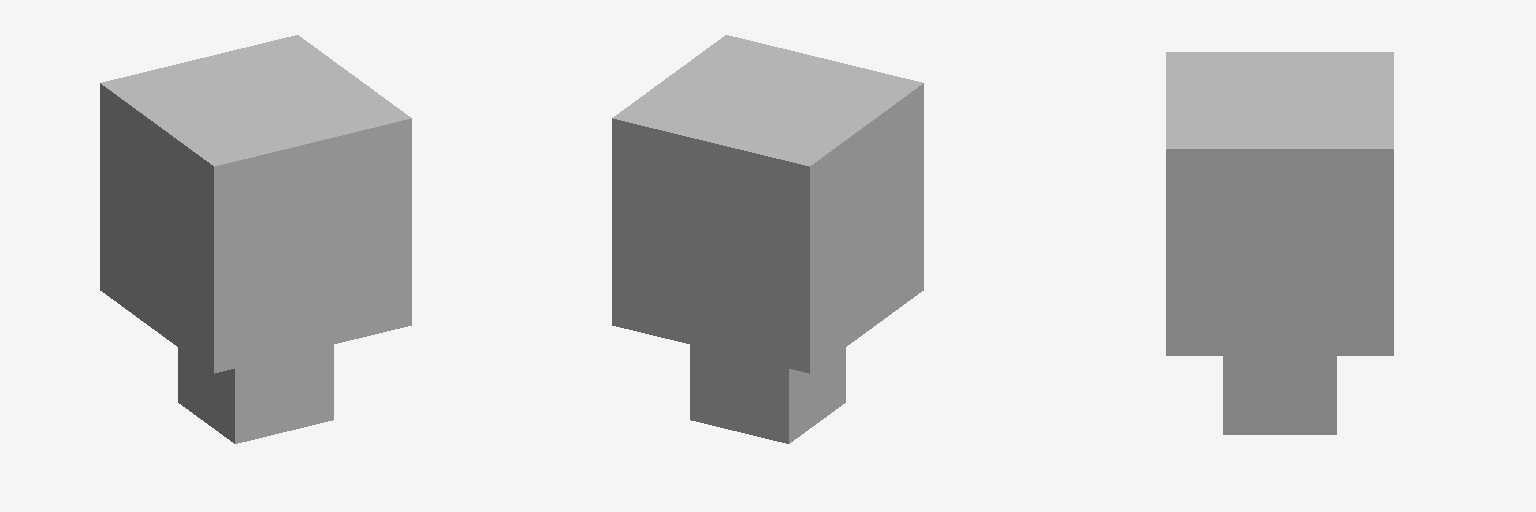
The model's file is tree.obj.
3 views of the same model, side by side, from view 1: azimuth 30°, elevation 25°; view 2: azimuth 150°, elevation 25°; view 3: azimuth 270°, elevation 25° (orthographic).
Parts seen in each view (by area): view 1: object 1; view 2: object 1; view 3: object 1.
Boxes of the visible parts, <box> form: object 1: <box>100,35,411,443</box>; object 1: <box>612,35,923,443</box>; object 1: <box>1166,52,1393,434</box>.
Bounding box in the file's own units: 0.4 × 0.6 × 0.4.